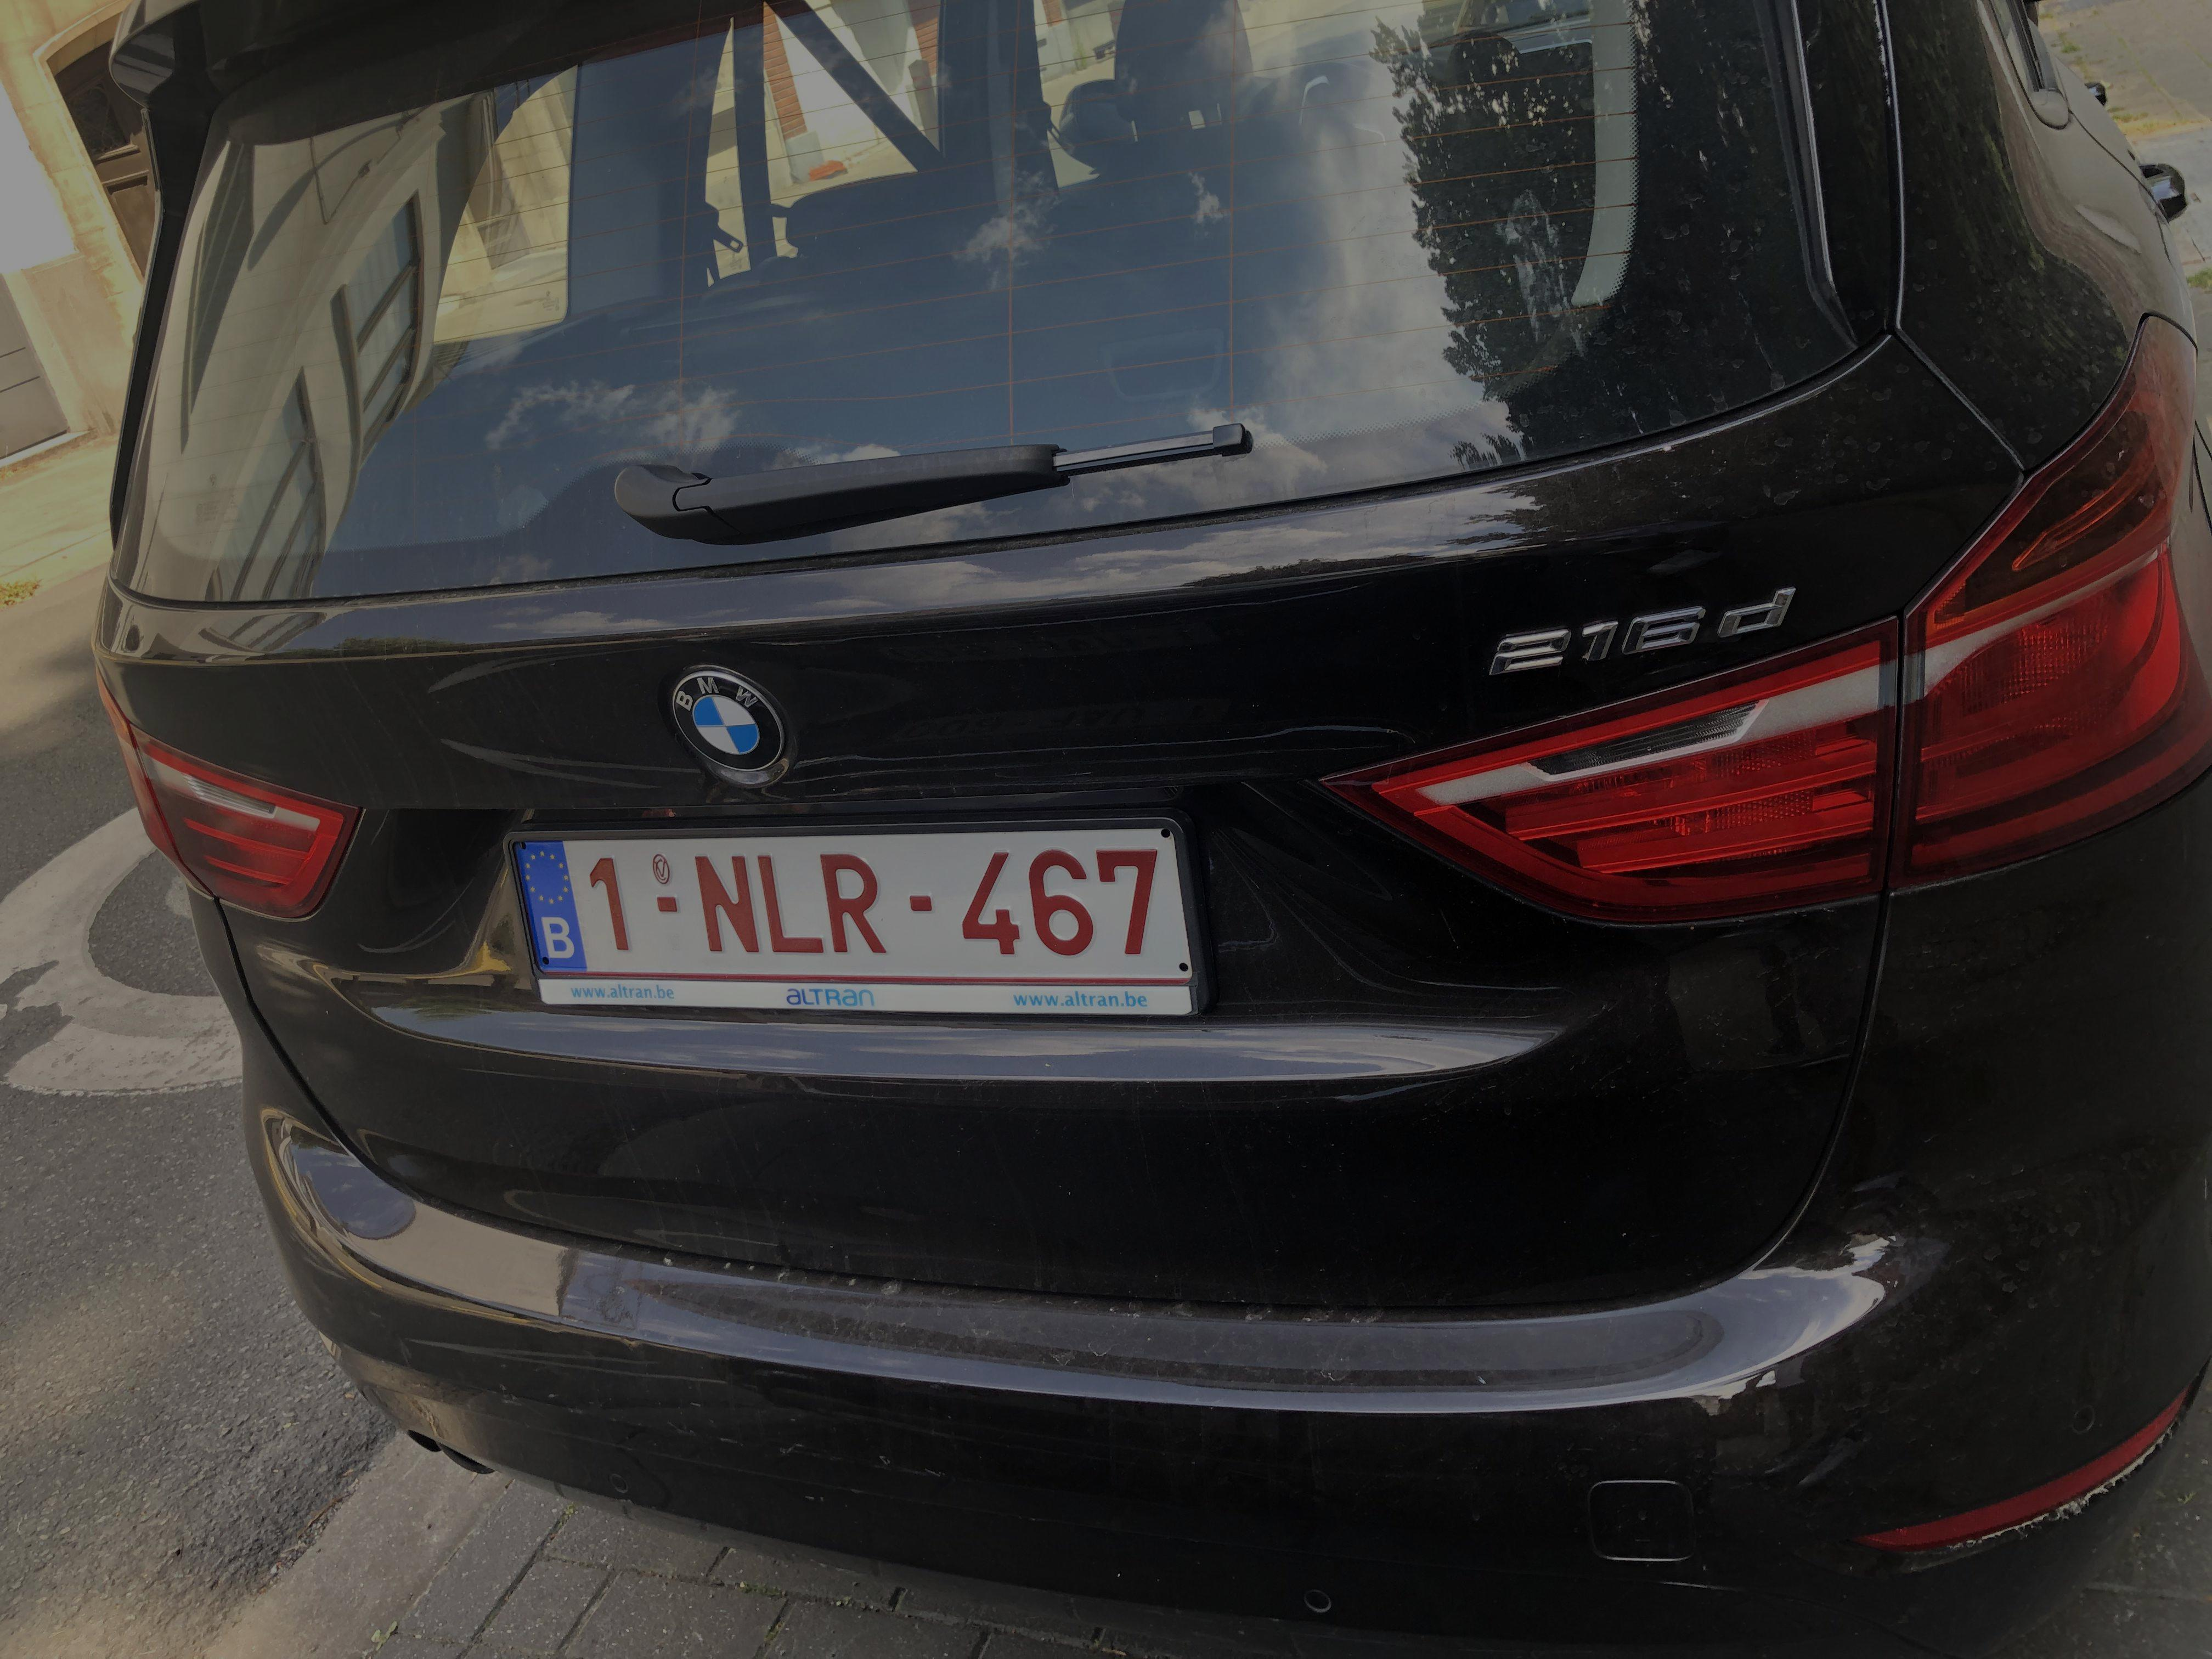plate: (467, 789, 1240, 983)
